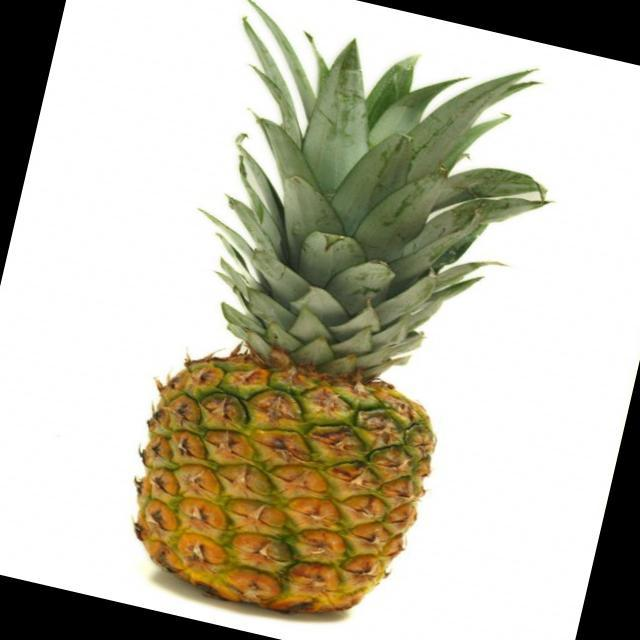PINEAPLE: (106, 11, 518, 640)
